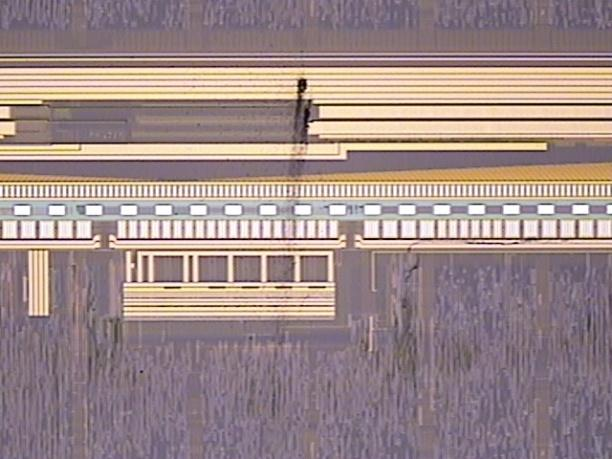SCRATCH: (267, 69, 426, 403)
